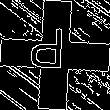P_S: (35, 29, 75, 81)
